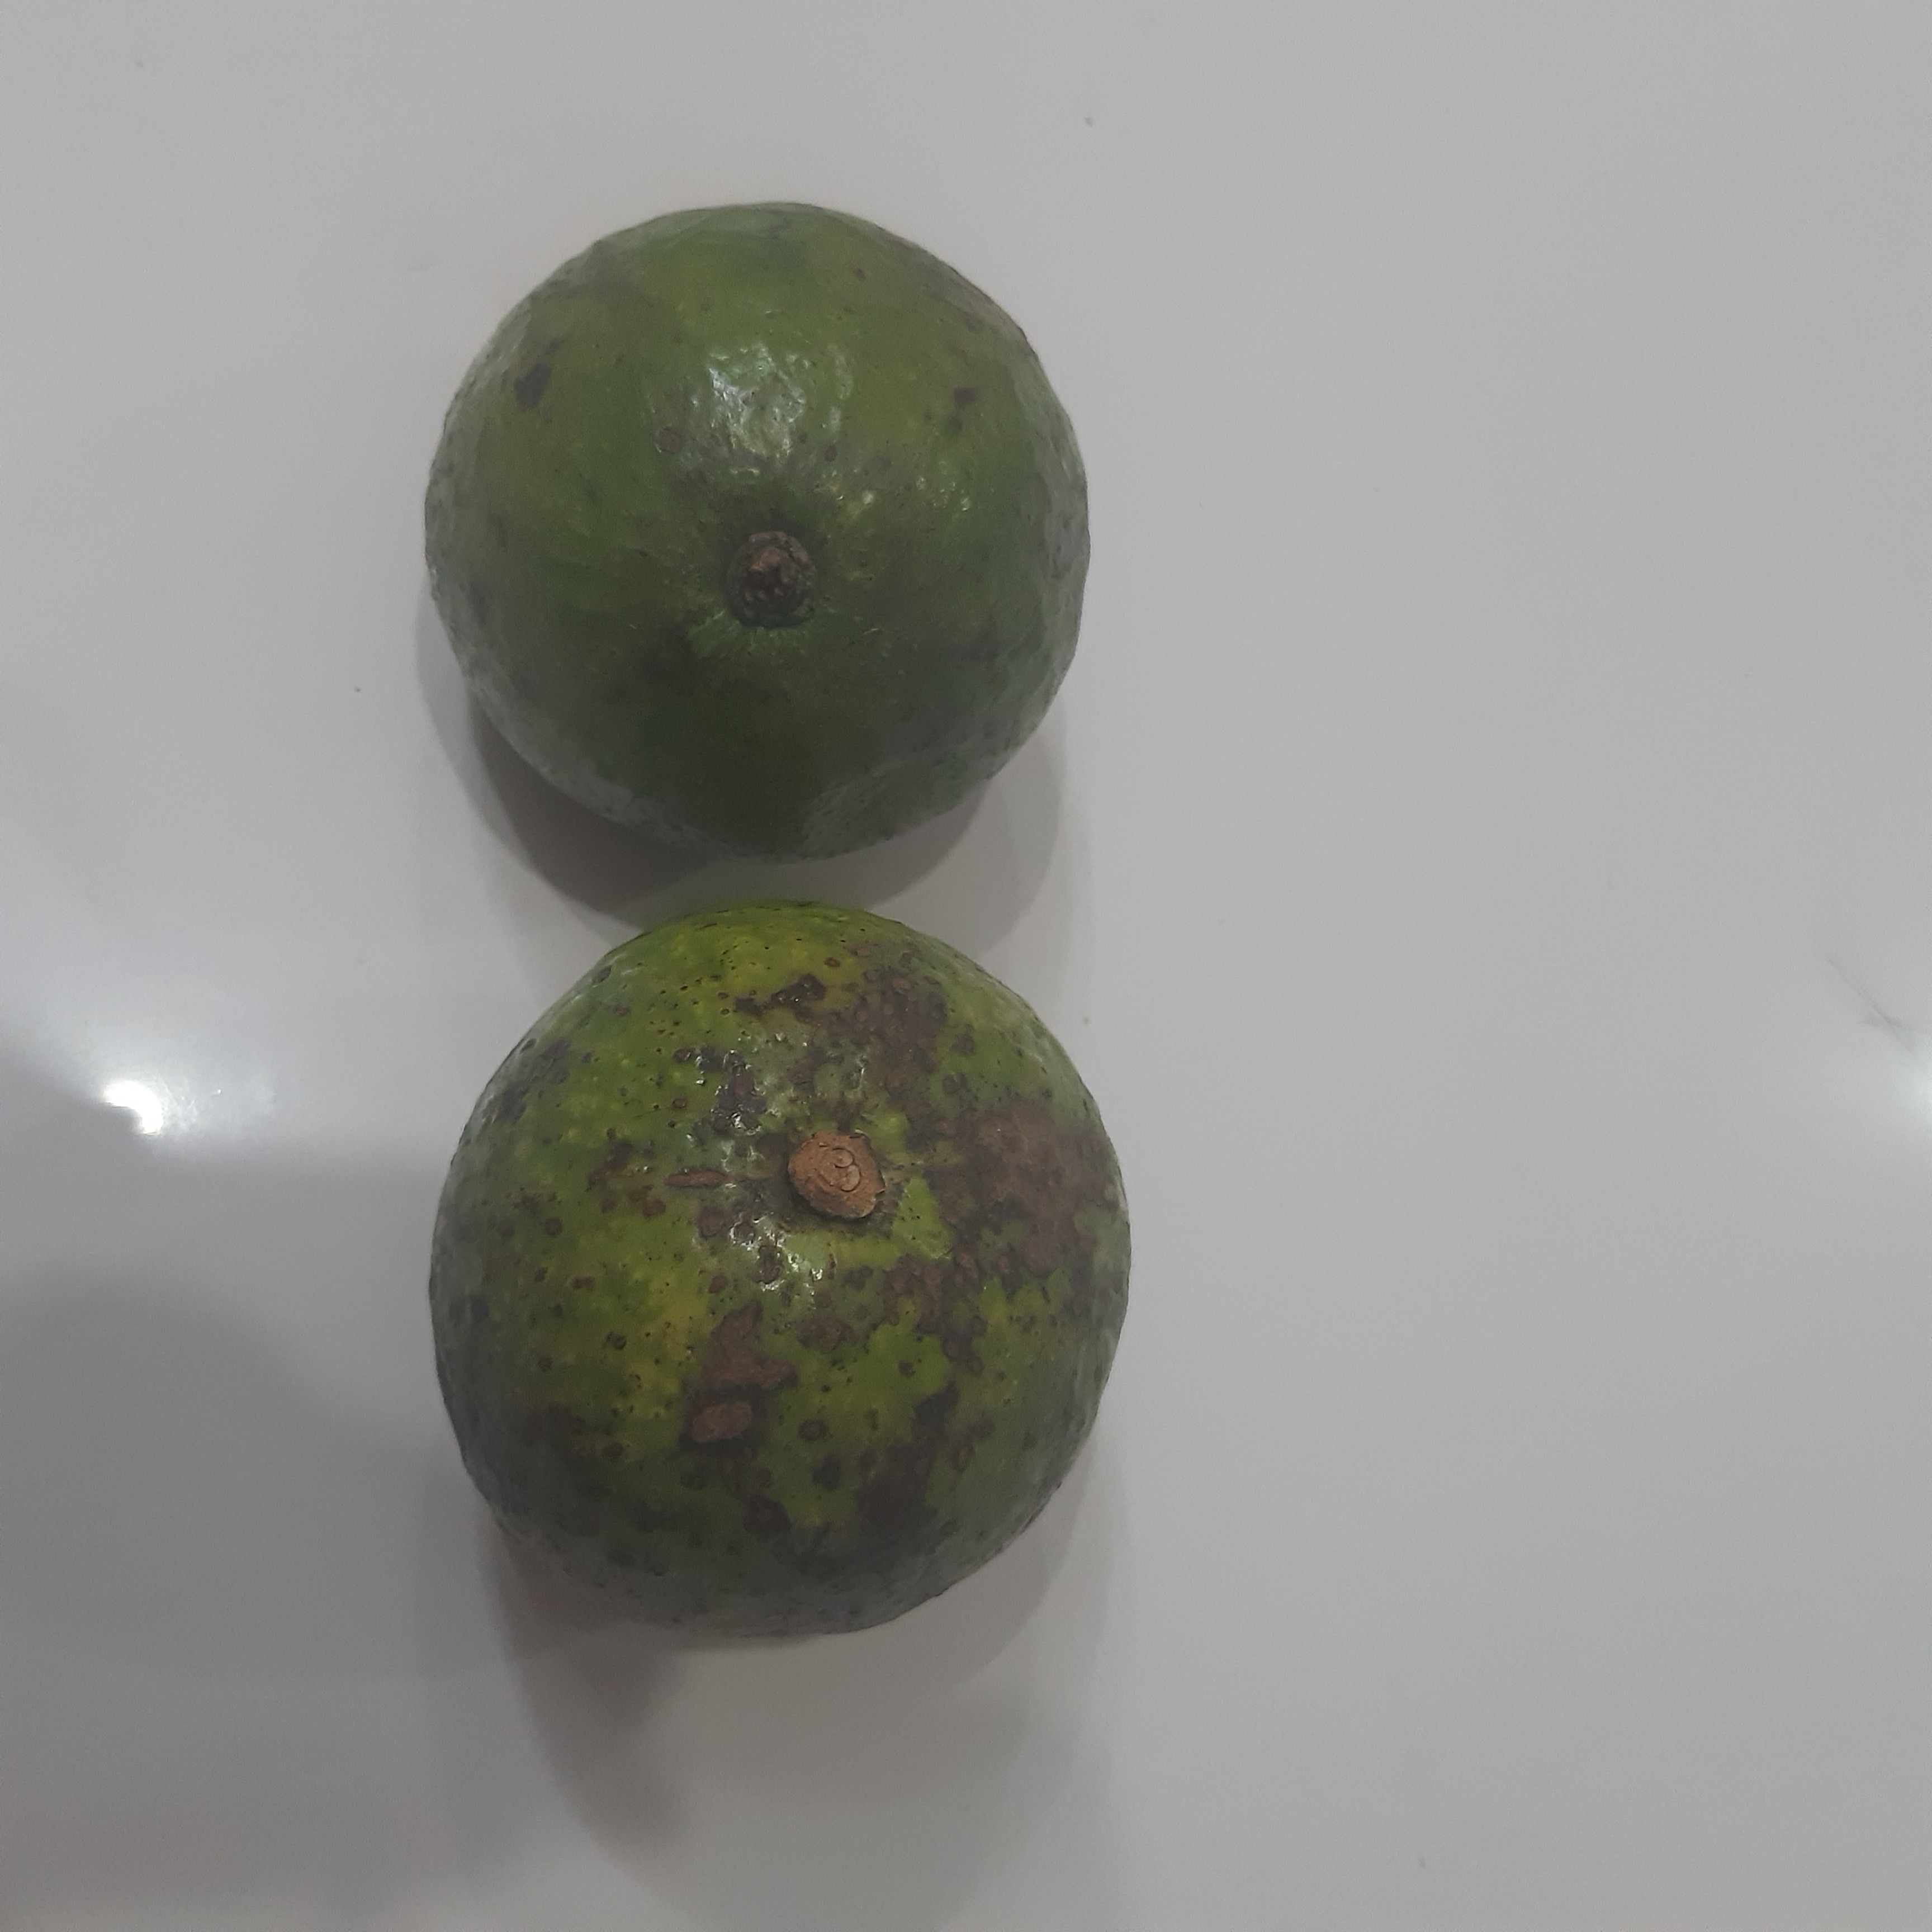Bo: (419, 902, 1134, 1645), (423, 202, 1093, 869)
